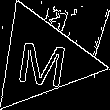M_N: (14, 32, 70, 87)
